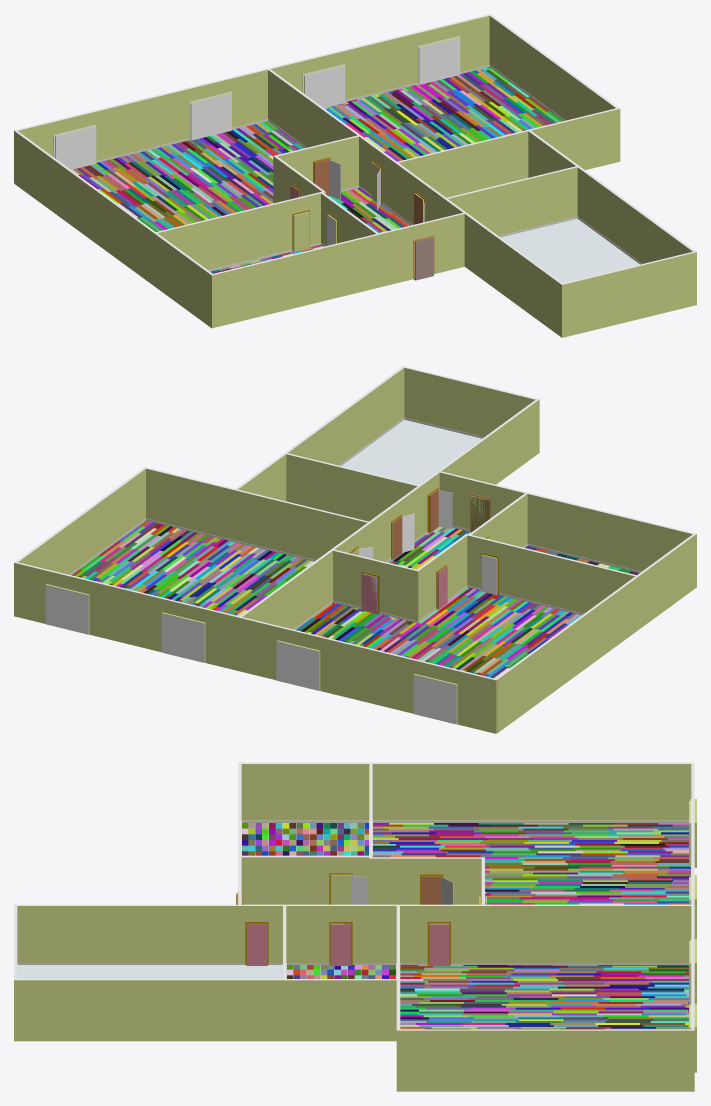
Rendered from house_tex.fbx.
3 renders of one model, top to bottom at view 1: azimuth 30°, elevation 25°; view 2: azimuth 150°, elevation 25°; view 3: azimuth 270°, elevation 25°, orthographic. The views are drawn at different scales.
Parts seen in each view (by area): view 1: Wall.005, Wall.002, Wall, Floor.005, Floor.004, Wall.001, Wall.006, AutoBoolean.002, Wall.003, Floor.003, Wall.004, AutoBoolean (+3 smaller); view 2: Wall.005, Wall.002, Wall, Floor.005, Floor.004, Wall.001, Wall.006, AutoBoolean.002, Wall.003, Floor.003, Wall.004, AutoBoolean (+3 smaller); view 3: Wall.002, Floor.005, Wall.005, Wall.006, Floor.004, Wall, Wall.001, Wall.004, Floor.002, Floor.003, AutoBoolean, Floor (+5 smaller).
Boxes of the visible parts, bbox=[...] form: Wall.005: bbox=[14, 14, 620, 183]; Wall.002: bbox=[397, 129, 696, 337]; Wall: bbox=[210, 135, 466, 328]; Floor.005: bbox=[71, 121, 357, 231]; Floor.004: bbox=[324, 67, 562, 161]; Wall.001: bbox=[153, 191, 378, 326]; Wall.006: bbox=[15, 131, 155, 284]; AutoBoolean.002: bbox=[55, 37, 459, 169]; Wall.003: bbox=[447, 166, 577, 235]; Floor.003: bbox=[501, 218, 639, 283]; Wall.004: bbox=[268, 69, 359, 147]; AutoBoolean: bbox=[290, 159, 433, 280]; Wall.005: bbox=[14, 467, 497, 733]; Wall.002: bbox=[233, 366, 539, 559]; Wall: bbox=[331, 471, 696, 621]; Floor.005: bbox=[296, 587, 581, 678]; Floor.004: bbox=[72, 520, 313, 616]; Wall.001: bbox=[467, 493, 695, 629]; Wall.006: bbox=[496, 576, 637, 732]; AutoBoolean.002: bbox=[45, 584, 457, 724]; Wall.003: bbox=[286, 453, 418, 521]; Floor.003: bbox=[341, 419, 481, 484]; Wall.004: bbox=[240, 550, 332, 629]; AutoBoolean: bbox=[350, 489, 490, 613]; Wall.002: bbox=[14, 904, 399, 1041]; Floor.005: bbox=[373, 823, 690, 904]; Wall.005: bbox=[396, 762, 694, 1091]; Wall.006: bbox=[372, 762, 691, 820]; Floor.004: bbox=[400, 965, 688, 1029]; Wall: bbox=[238, 762, 484, 962]; Wall.001: bbox=[241, 762, 372, 904]; Wall.004: bbox=[485, 904, 691, 962]; Floor.002: bbox=[242, 823, 368, 855]; Floor.003: bbox=[17, 965, 282, 978]; AutoBoolean: bbox=[236, 876, 486, 965]; Floor: bbox=[287, 965, 395, 978].
Bounding box in the file's own units: 2830 × 305 × 3046.
